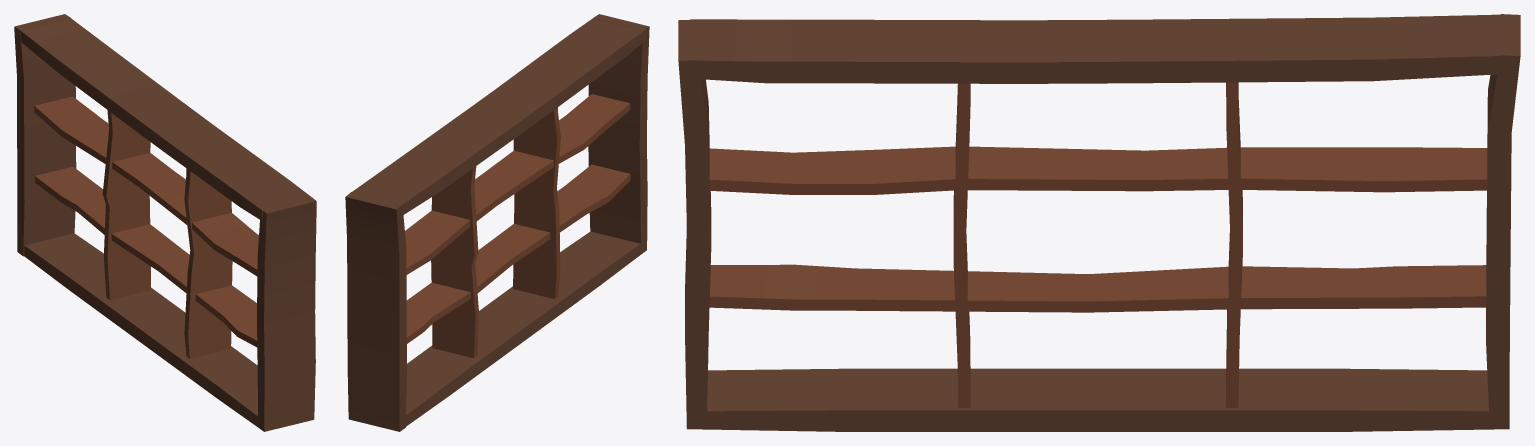
The model's file is P_shelf_01_LD.fbx.
The picture shows the model from 3 angles, left to right: view 1: azimuth 30°, elevation 25°; view 2: azimuth 150°, elevation 25°; view 3: azimuth 270°, elevation 25°; orthographic projection. The views are drawn at different scales.
Parts seen in each view (by area): view 1: P_shelf_01; view 2: P_shelf_01; view 3: P_shelf_01.
Part boxes in pixels (box(x1,y1,x2,y2)): P_shelf_01: box(14, 14, 316, 431); P_shelf_01: box(345, 14, 649, 431); P_shelf_01: box(678, 14, 1520, 431).
Size of the model in its own units: 42.55 by 177 by 358.
Materials: 1 (1 with a texture image).
